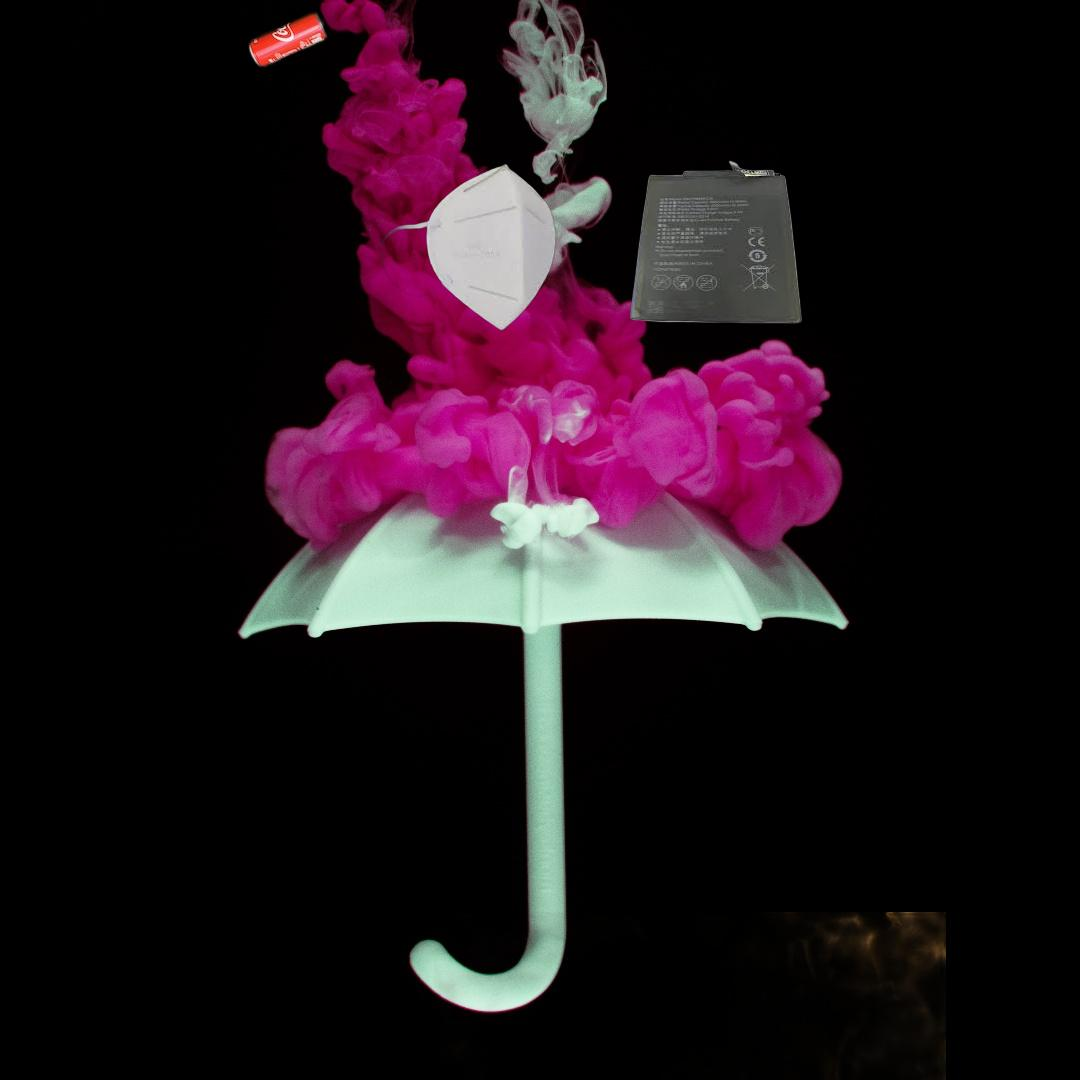battery: (627, 158, 805, 326)
metal-cans: (244, 5, 333, 78)
paper: (434, 912, 946, 1080)
trash: (374, 161, 592, 360)
